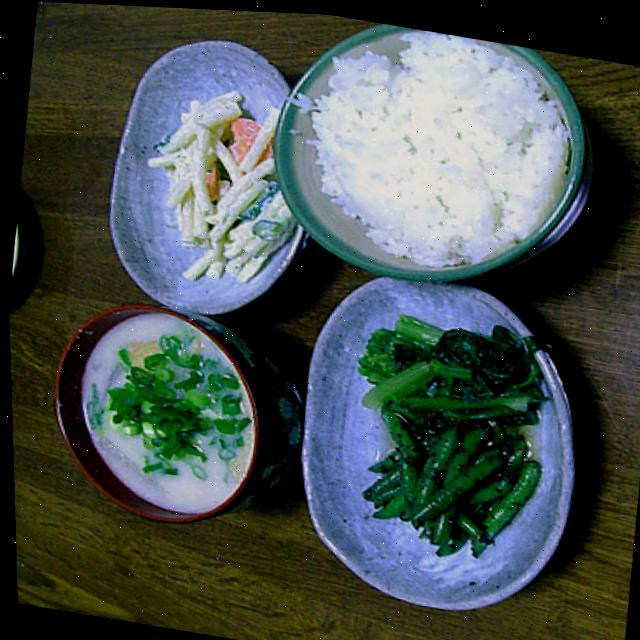米饭主食: (243, 8, 608, 315)
